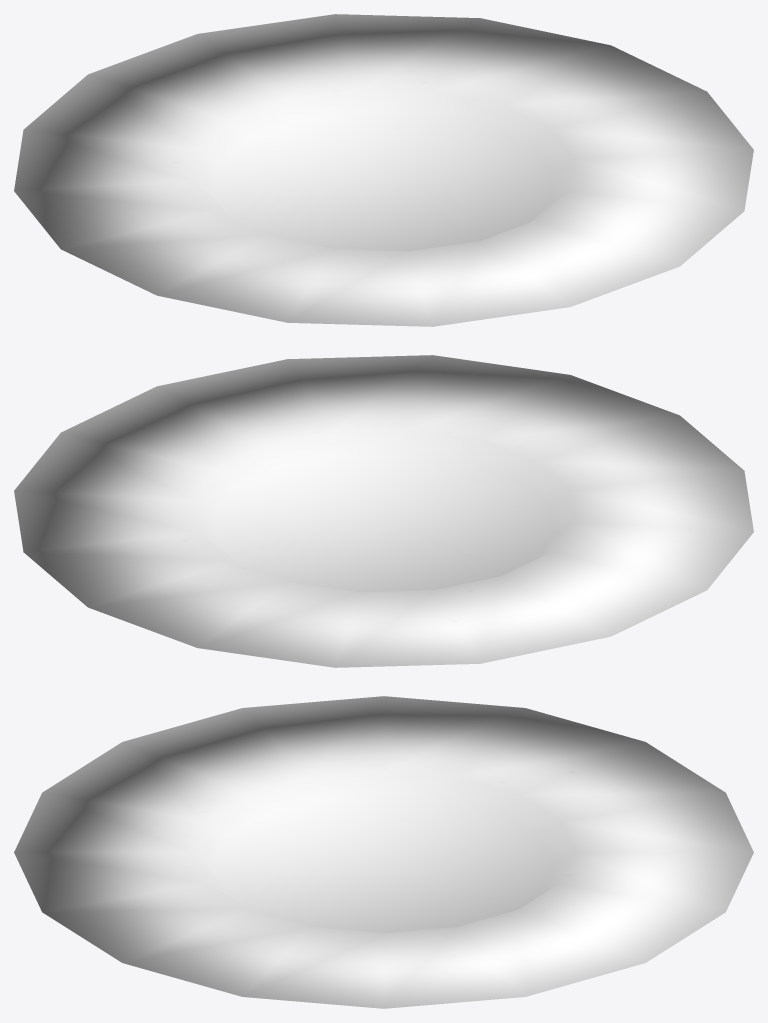
The model's file is smallplate.fbx.
3 renders of one model, top to bottom at view 1: azimuth 30°, elevation 25°; view 2: azimuth 150°, elevation 25°; view 3: azimuth 270°, elevation 25°, orthographic.
Visible parts, largest first — view 1: platelow; view 2: platelow; view 3: platelow.
Part boxes in pixels (left/top/right/bottom): platelow: left=14, top=14, right=753, bottom=326; platelow: left=14, top=355, right=753, bottom=667; platelow: left=14, top=696, right=753, bottom=1008.
Size of the model in its own units: 0.1459 by 0.1459 by 0.0101.
Materials: 1 (1 with a texture image).
